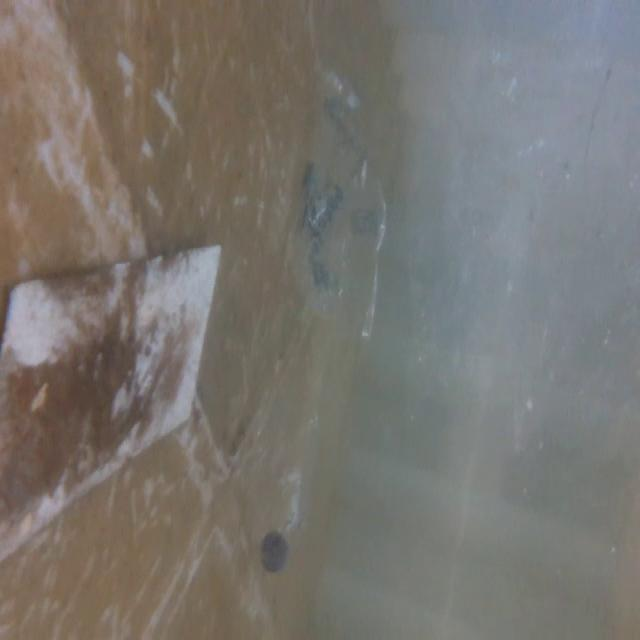metal: (0, 248, 234, 577)
plastic bags: (423, 0, 640, 504), (282, 71, 397, 346)
plastic bottle: (221, 365, 337, 575)
